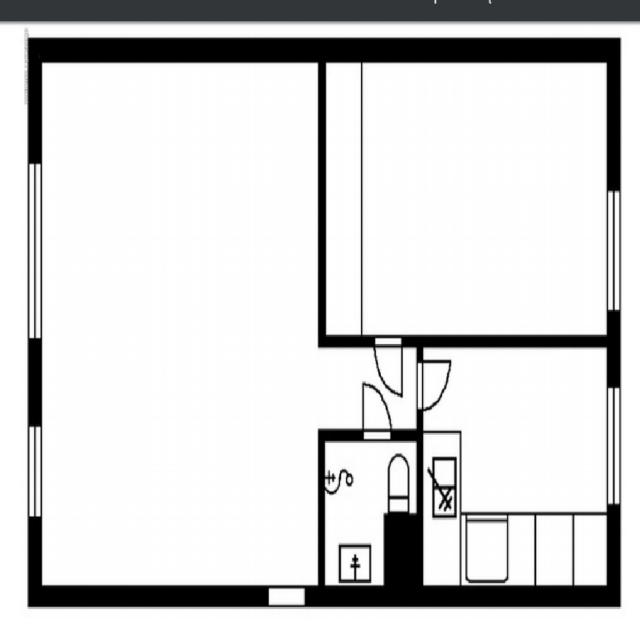door: (416, 361, 452, 410), (363, 381, 391, 441), (375, 335, 402, 396)
